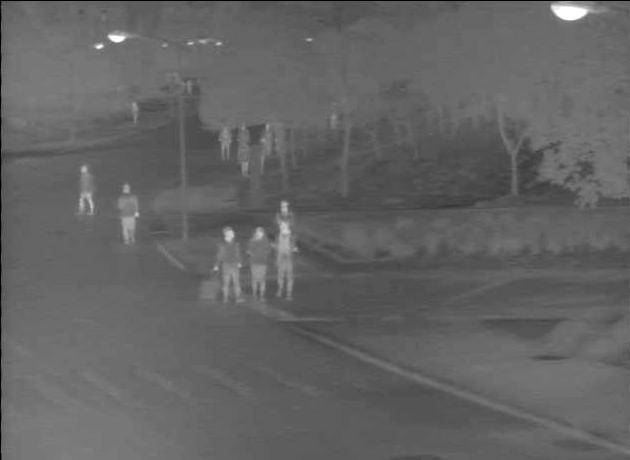luggage: (197, 271, 220, 304)
people: (211, 227, 245, 302), (247, 227, 273, 306), (275, 221, 297, 303), (117, 180, 142, 246), (74, 161, 100, 220), (215, 123, 232, 159)
